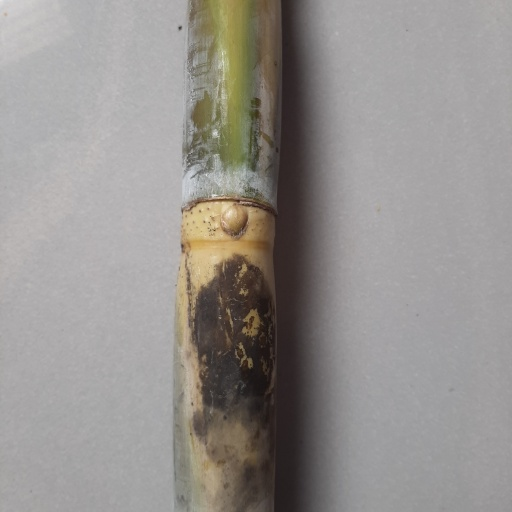Bud: (218, 201, 249, 241)
